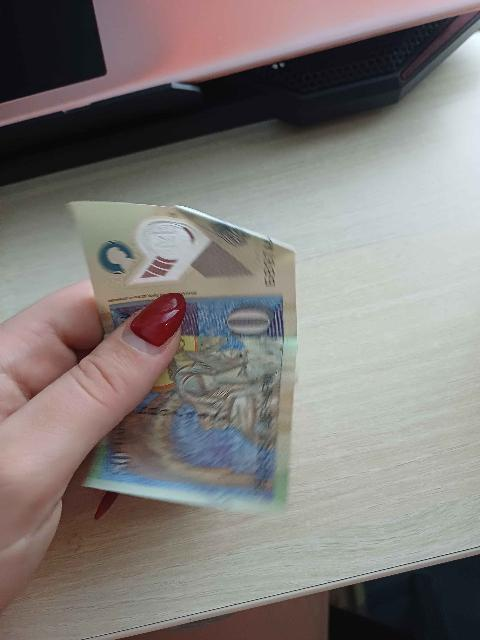50_note: (75, 201, 296, 511)
